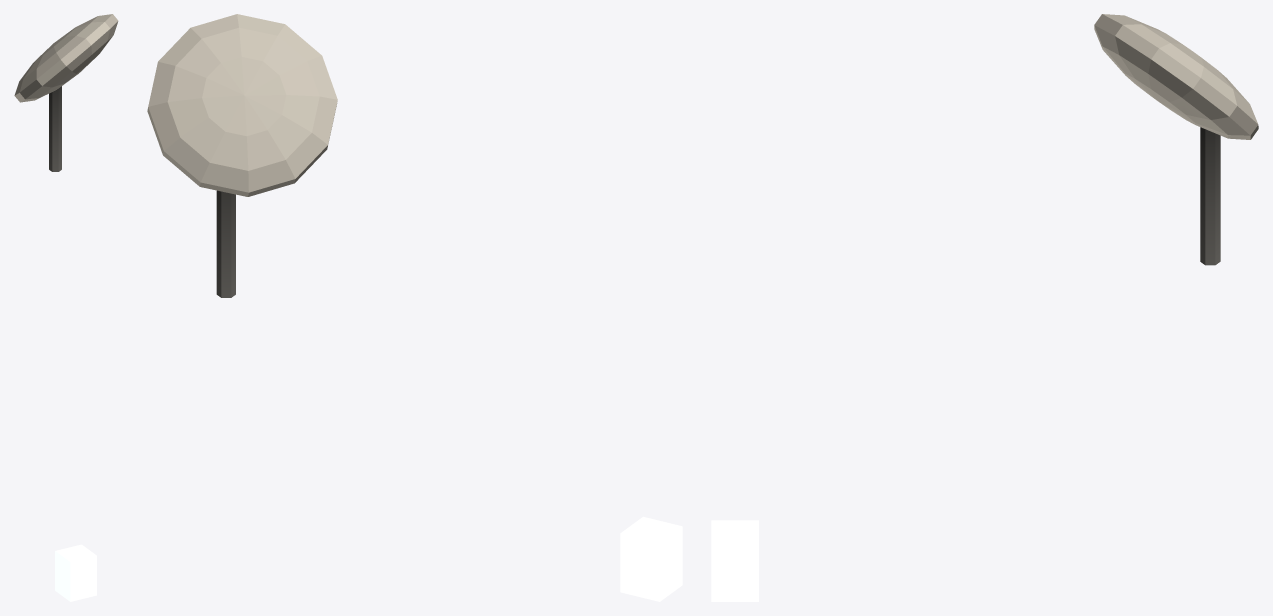
The model's file is lab_l1.glb.
3 views of the same model, side by side, from view 1: azimuth 30°, elevation 25°; view 2: azimuth 150°, elevation 25°; view 3: azimuth 270°, elevation 25° (orthographic). The views are drawn at different scales.
Visible parts, largest first — view 1: dish2_mast; view 2: dish2_mast; view 3: dish2_mast.
Boxes of the visible parts, bbox=[...] form: dish2_mast: bbox=[14, 14, 118, 601]; dish2_mast: bbox=[147, 14, 682, 601]; dish2_mast: bbox=[711, 14, 1258, 601].
Size of the model in its own units: 1.04 by 2.22 by 1.61.
